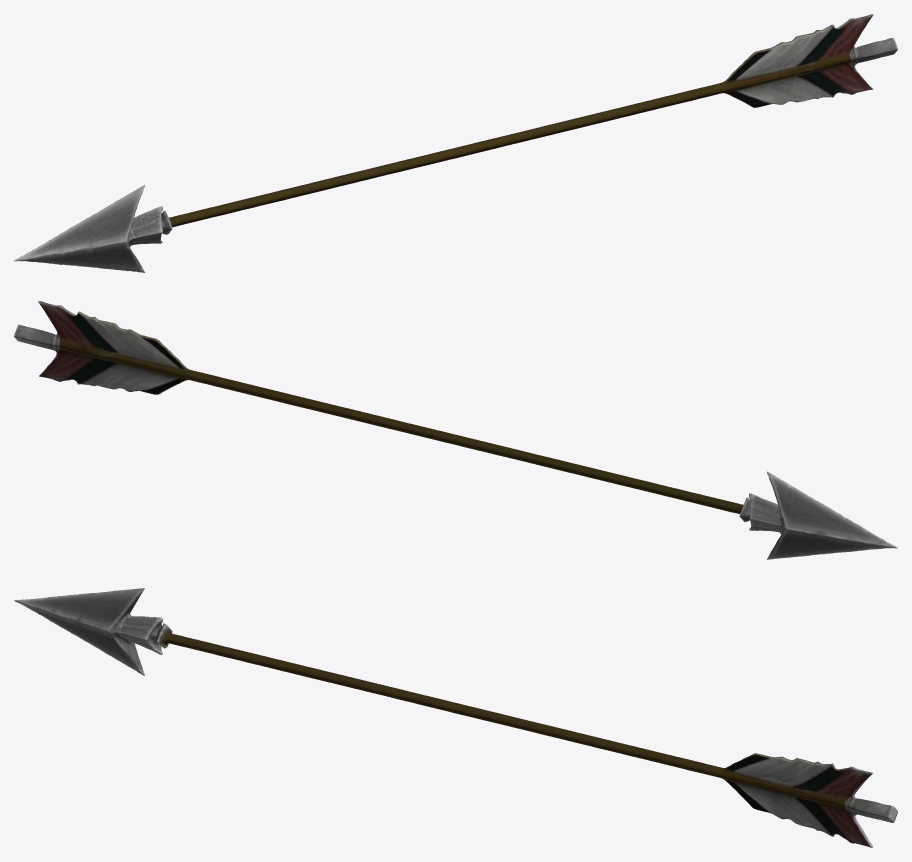
The model's file is Arrow.glb.
The picture shows the model from 3 angles, top to bottom: view 1: azimuth 30°, elevation 25°; view 2: azimuth 150°, elevation 25°; view 3: azimuth 330°, elevation 25°; orthographic projection.
Size of the model in its own units: 1.9 by 0.1814 by 0.0643.
1 material, 1 textured.
